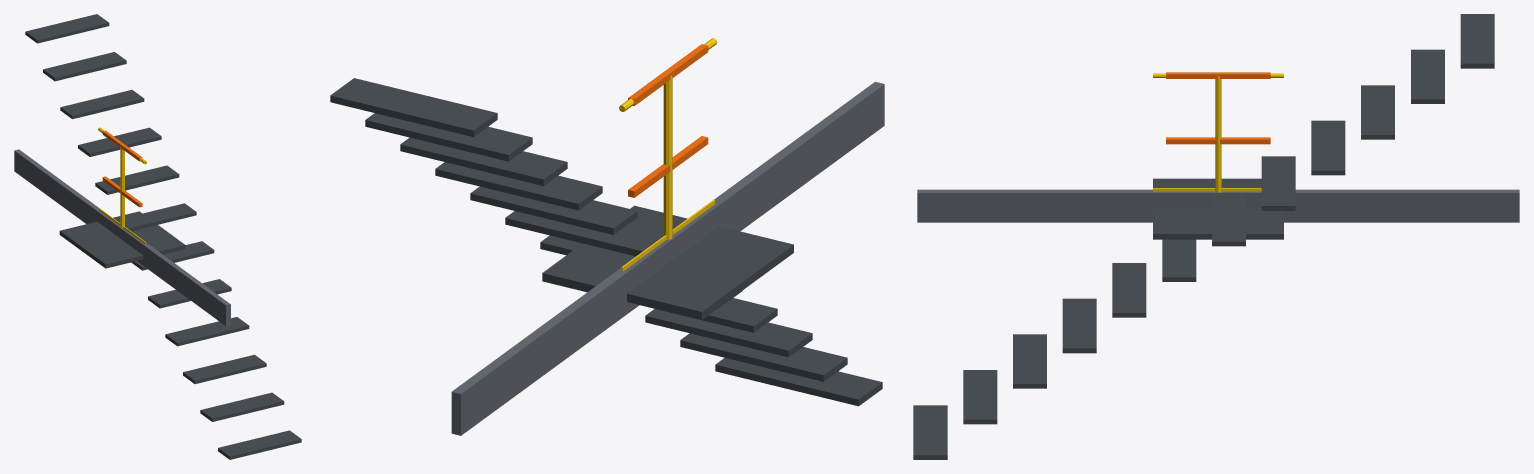
Rendered from ENV_PlatformKit.fbx.
The picture shows the model from 3 angles, left to right: view 1: azimuth 30°, elevation 25°; view 2: azimuth 150°, elevation 25°; view 3: azimuth 270°, elevation 25°; orthographic projection. The views are drawn at different scales.
Parts seen in each view (by area): view 1: Stair_Stringer, Grating_1m, Gate_Bridge, Stair_Tread_2, Stair_Tread_10, Stair_Tread_12, Stair_Tread_1, Stair_Tread_11, Stair_Tread_3, Stair_Tread_4, Stair_Tread_9, Stair_Tread_7 (+4 smaller); view 2: Stair_Stringer, Grating_1m, Gate_Bridge, Stair_Tread_12, Stair_Tread_10, Stair_Tread_11, Stair_Tread_2, Stair_Tread_3, Stair_Tread_8, Stair_Tread_9, Stair_Tread_1, Stair_Tread_7 (+5 smaller); view 3: Stair_Stringer, Gate_Bridge, Grating_1m, Stair_Tread_4, Stair_Tread_9, Stair_Tread_1, Stair_Tread_12, Stair_Tread_5, Stair_Tread_8, Stair_Tread_2, Stair_Tread_10, Stair_Tread_11 (+6 smaller).
Boxes of the visible parts, left/top/right/bottom form: Stair_Stringer: left=14, top=149, right=230, bottom=326; Grating_1m: left=59, top=211, right=185, bottom=268; Gate_Bridge: left=64, top=225, right=165, bottom=263; Stair_Tread_2: left=200, top=392, right=284, bottom=421; Stair_Tread_10: left=60, top=90, right=144, bottom=119; Stair_Tread_12: left=25, top=14, right=109, bottom=43; Stair_Tread_1: left=218, top=430, right=301, bottom=459; Stair_Tread_11: left=43, top=52, right=126, bottom=81; Stair_Tread_3: left=183, top=354, right=266, bottom=383; Stair_Tread_4: left=165, top=317, right=249, bottom=346; Stair_Tread_9: left=78, top=127, right=161, bottom=156; Stair_Tread_7: left=116, top=203, right=196, bottom=231; Stair_Stringer: left=451, top=81, right=884, bottom=435; Grating_1m: left=542, top=205, right=793, bottom=320; Gate_Bridge: left=552, top=215, right=784, bottom=311; Stair_Tread_12: left=330, top=78, right=497, bottom=137; Stair_Tread_10: left=400, top=137, right=567, bottom=185; Stair_Tread_11: left=365, top=113, right=532, bottom=161; Stair_Tread_2: left=680, top=333, right=847, bottom=381; Stair_Tread_3: left=645, top=309, right=812, bottom=357; Stair_Tread_8: left=470, top=186, right=637, bottom=234; Stair_Tread_9: left=435, top=162, right=602, bottom=210; Stair_Tread_1: left=715, top=358, right=882, bottom=406; Stair_Tread_7: left=505, top=211, right=663, bottom=256; Stair_Stringer: left=917, top=189, right=1519, bottom=222; Gate_Bridge: left=1166, top=178, right=1270, bottom=238; Grating_1m: left=1153, top=178, right=1283, bottom=239; Stair_Tread_4: left=1062, top=298, right=1096, bottom=353; Stair_Tread_9: left=1311, top=120, right=1345, bottom=175; Stair_Tread_1: left=913, top=405, right=947, bottom=459; Stair_Tread_12: left=1460, top=14, right=1494, bottom=68; Stair_Tread_5: left=1112, top=263, right=1146, bottom=317; Stair_Tread_8: left=1261, top=156, right=1295, bottom=210; Stair_Tread_2: left=963, top=370, right=997, bottom=424; Stair_Tread_10: left=1361, top=85, right=1394, bottom=139; Stair_Tread_11: left=1411, top=49, right=1444, bottom=103.
Bounding box in the file's own units: 1.4 × 3.34 × 4.63.
Materials: 4 (4 with a texture image).
